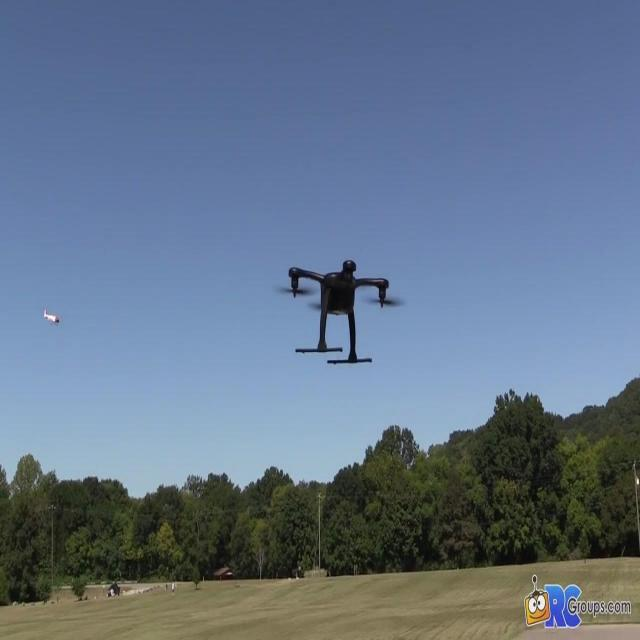UAV: (273, 260, 407, 366)
